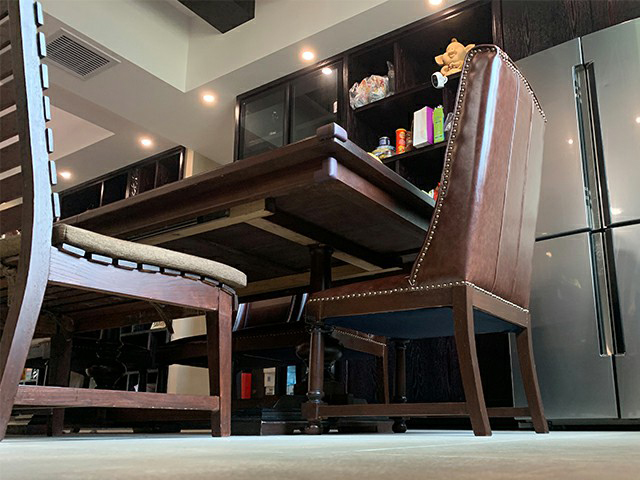stool: (1, 1, 248, 439), (299, 43, 549, 436)
table: (63, 123, 437, 434)
